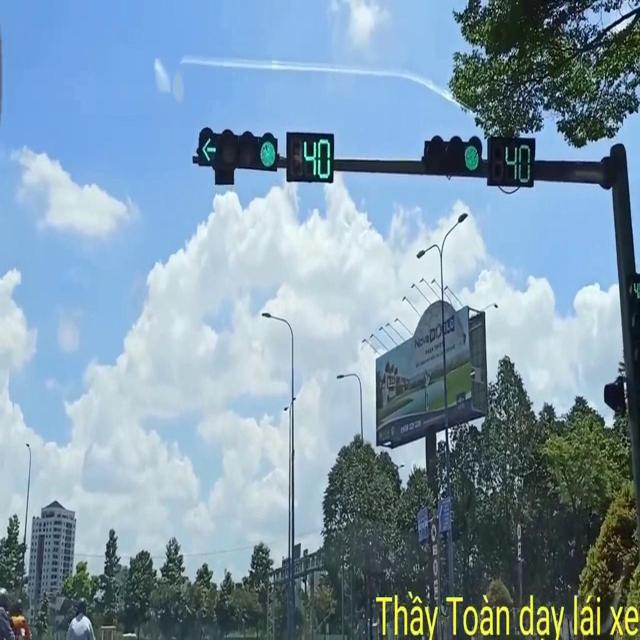Biển phụ: (433, 576, 439, 601), (516, 540, 522, 560)
Chỉ hướng đường: (434, 494, 454, 531)
Cấm xe máy: (428, 519, 438, 539)
Giới hạn tốc độ: 60Km/h: (430, 553, 440, 576)
Khác: (514, 514, 523, 540)
Làn đường cho từng xe: (413, 500, 430, 544)
